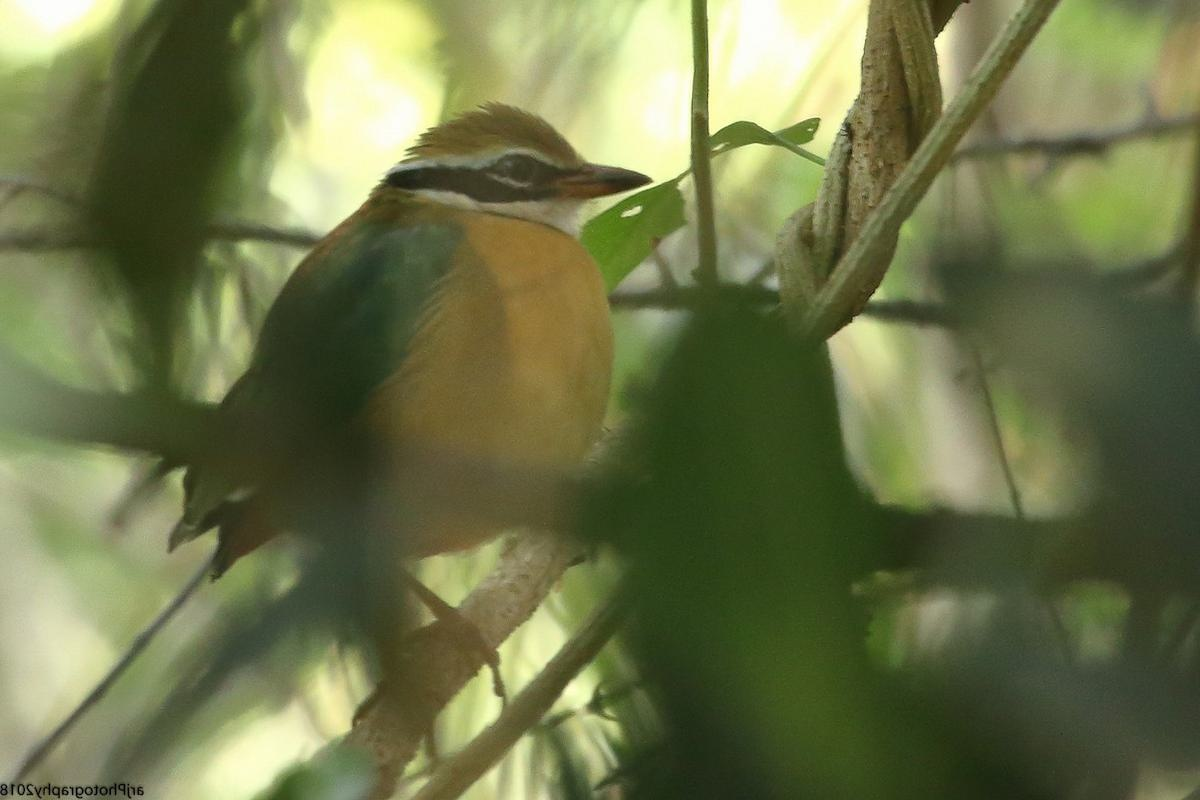pitta: (159, 90, 670, 666)
